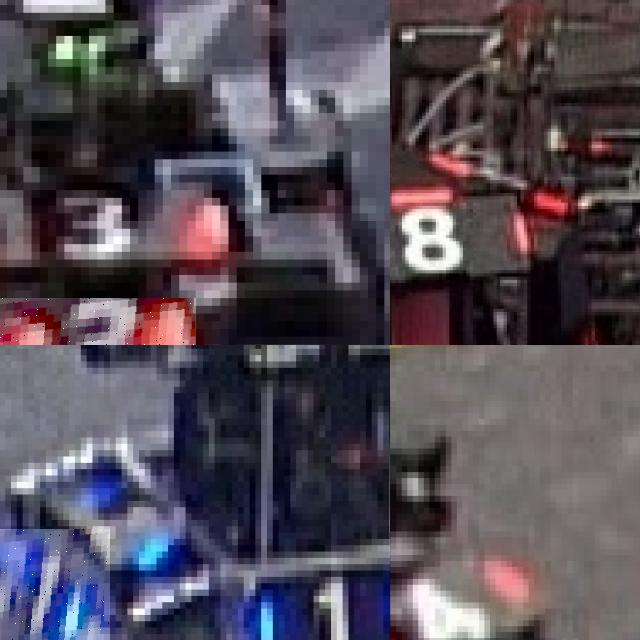B1: (235, 532, 390, 640), (58, 441, 180, 574), (0, 529, 110, 640)
R3: (0, 298, 195, 345)
